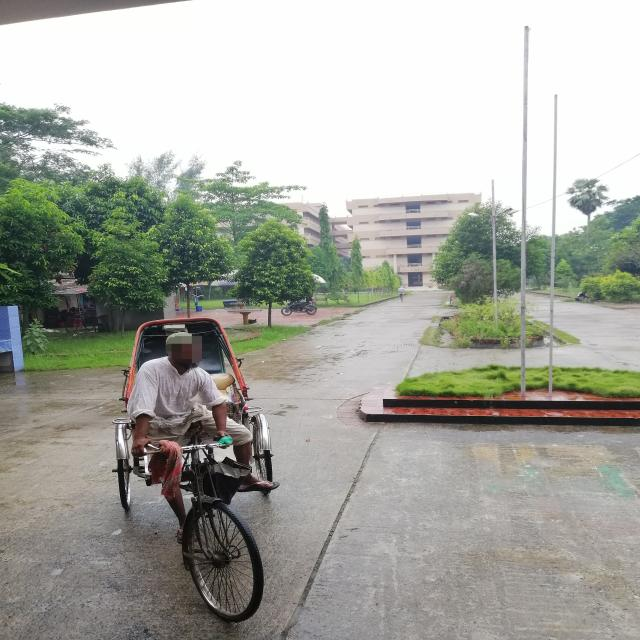Rickshaw: (125, 307, 286, 640)
